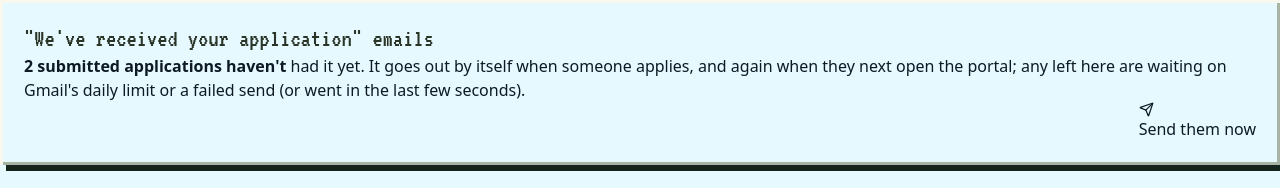
Test: ReceivedEmailsCard › says how many are waiting and sends them
Expected: the text "2 submitted applications haven't" is shown, [24,55,286,77]
Click the button "Send them now". click: {"x": 1197, "y": 122}
box: [1139,102,1256,141]
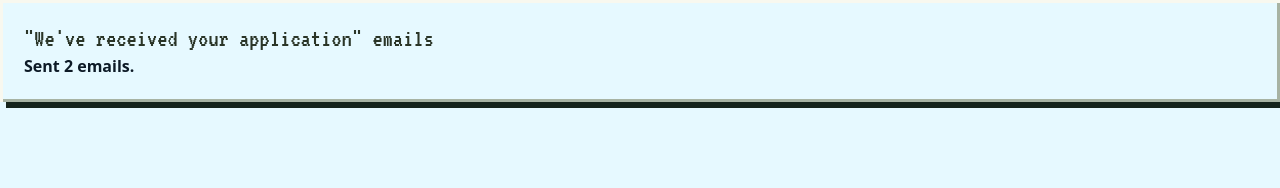
Expected: the text "Sent 2 emails." is shown, [24,55,134,77]
Expected: the button "Send" is gone
